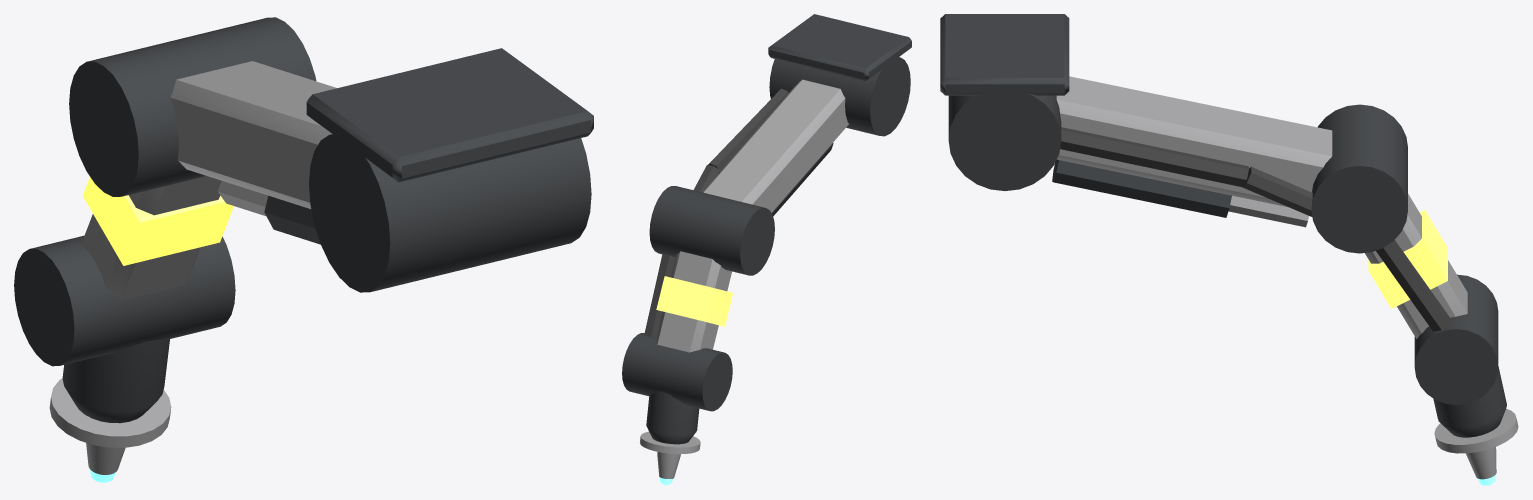
The model's file is mender_torch.glb.
The picture shows the model from 3 angles, left to right: view 1: azimuth 30°, elevation 25°; view 2: azimuth 150°, elevation 25°; view 3: azimuth 270°, elevation 25°; orthographic projection. The views are drawn at different scales.
Visible parts, largest first — view 1: body; view 2: body; view 3: body.
Boxes of the visible parts, x1=… form: body: x1=14, y1=17, x2=593, y2=482; body: x1=622, y1=14, x2=911, y2=485; body: x1=940, y1=14, x2=1518, y2=485.
Size of the model in its own units: 0.1 by 0.301 by 0.3584.
